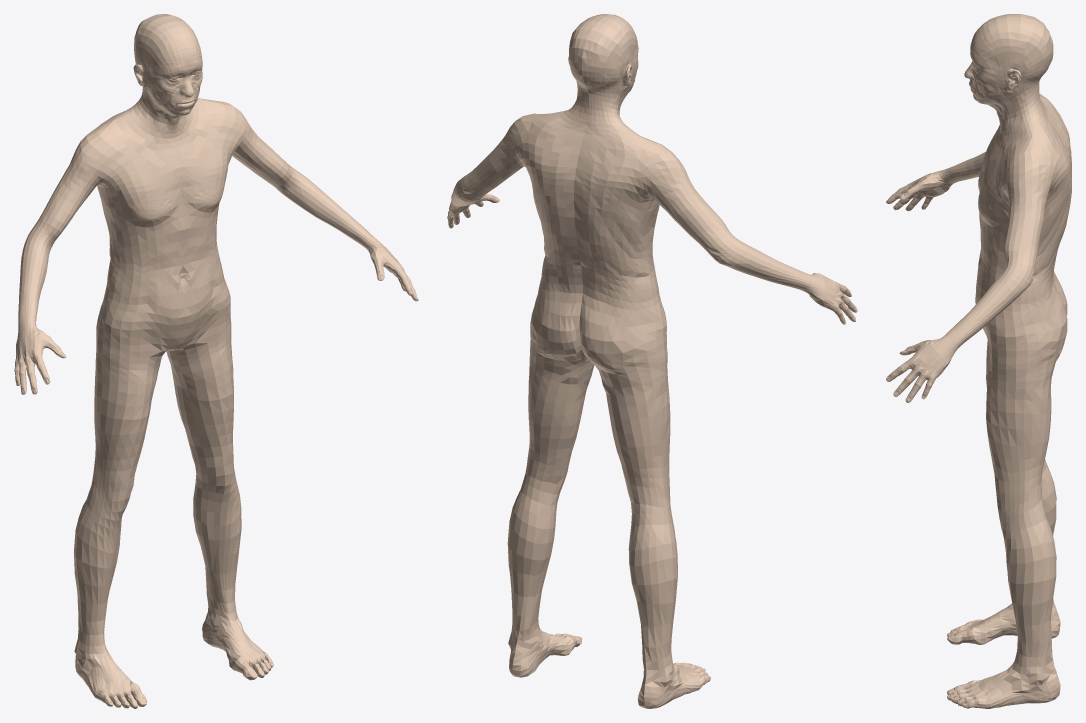
The model's file is male-older-lean-strong.glb.
3 views of the same model, side by side, from view 1: azimuth 30°, elevation 25°; view 2: azimuth 150°, elevation 25°; view 3: azimuth 270°, elevation 25° (orthographic).
Visible parts, largest first — view 1: world; view 2: world; view 3: world.
Boxes of the visible parts, x1,y1,x2,y2 form: world: (14, 14, 418, 708); world: (447, 14, 857, 708); world: (886, 14, 1071, 708).
Size of the model in its own units: 1.22 by 1.93 by 0.4976.
